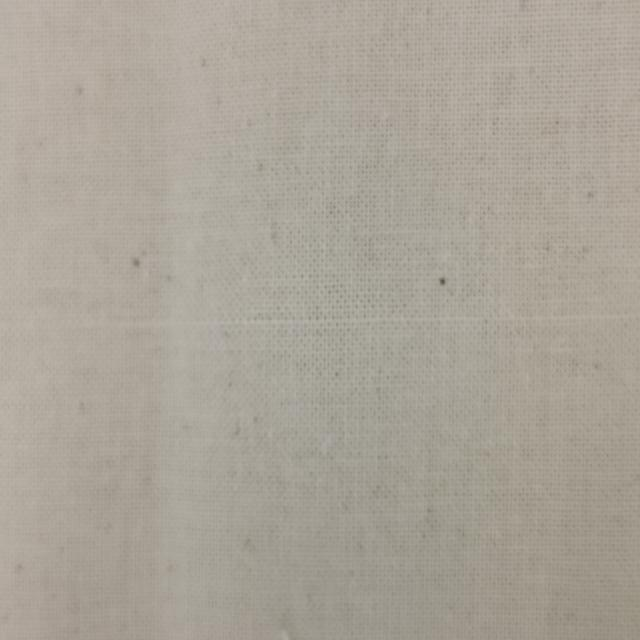stains: (32, 285, 640, 407)
